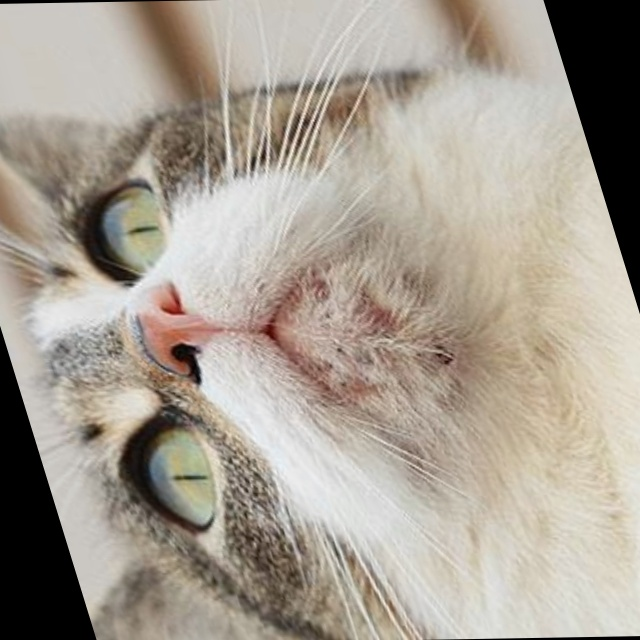acne: (307, 308, 477, 389)
